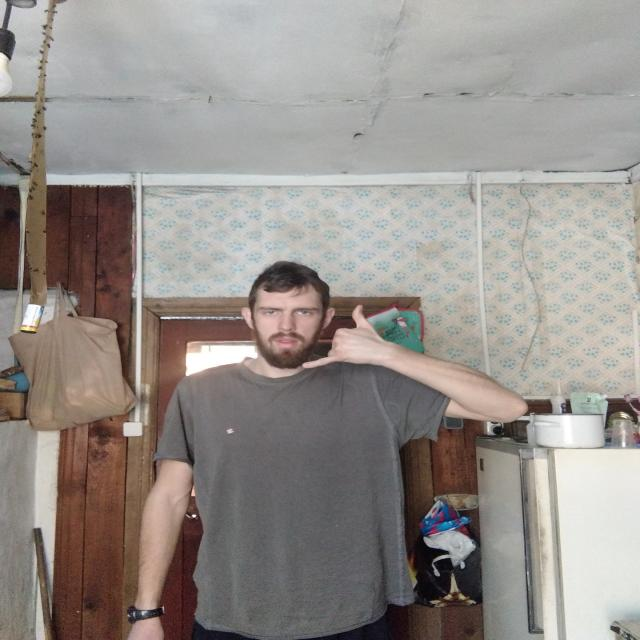call: (301, 304, 388, 370)
